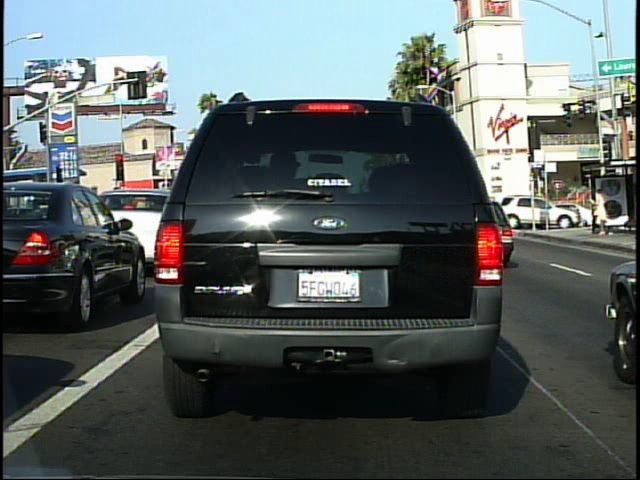person: (591, 183, 610, 239), (516, 198, 530, 226)
